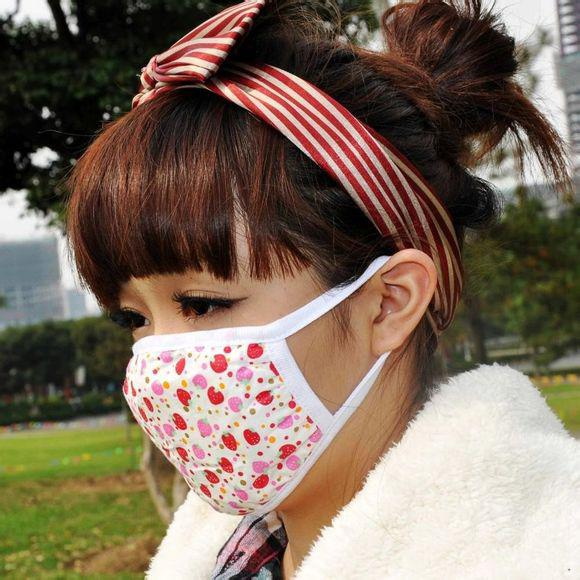OK: (107, 247, 368, 504)
